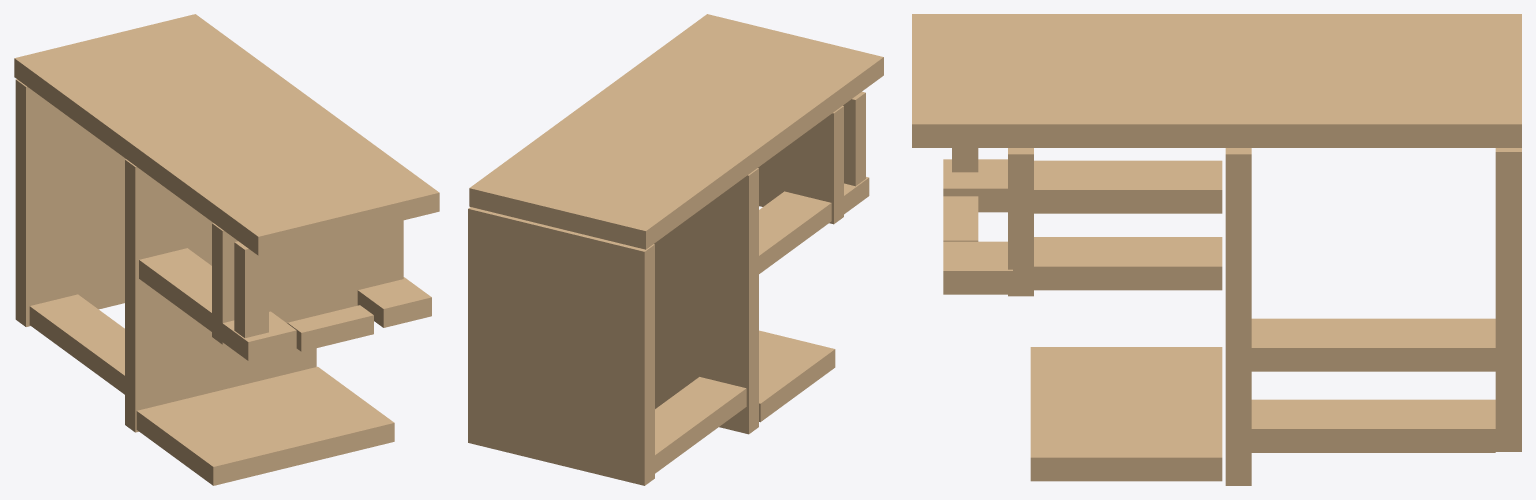
The model's file is tinker.obj.
The picture shows the model from 3 angles, left to right: view 1: azimuth 30°, elevation 25°; view 2: azimuth 150°, elevation 25°; view 3: azimuth 270°, elevation 25°; orthographic projection. The views are drawn at different scales.
Visible parts, largest first — view 1: obj_0; view 2: obj_0; view 3: obj_0.
Part boxes in pixels (x1,y1,x2,y2): obj_0: [14, 14, 439, 485]; obj_0: [468, 14, 883, 485]; obj_0: [912, 14, 1521, 485].
Size of the model in its own units: 77 by 114 by 175.
